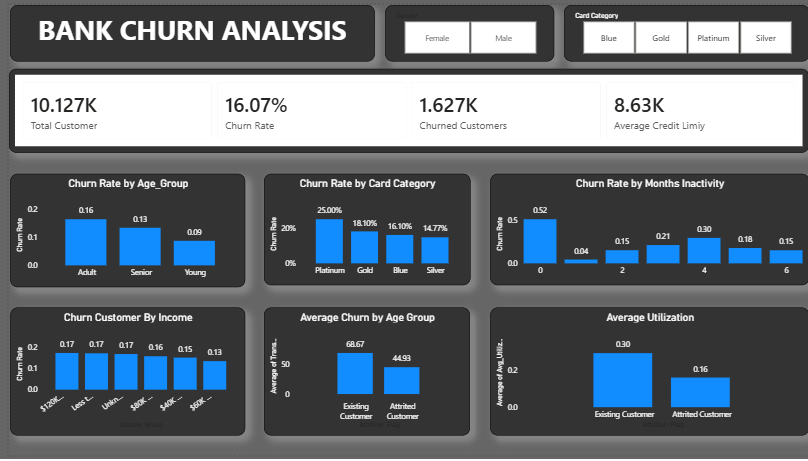

The dashboard page shown, as its layout file describes it:
{"tool":"powerbi","page":{"name":"Page 1","canvas":[1280,720],"ordinal":0},"visuals":[{"type":"textbox","box":[1.4,0,582.9,90],"z":0},{"type":"columnChart","title":"Churn Customer By Income","fields":{"Category":["BankChurners_Cleaned1.Income_Group"],"Y":["BankChurners_Cleaned1.Churn Rate"]},"box":[1.4,484.4,376,204.5],"z":1000},{"type":"clusteredColumnChart","title":"Average  Churn by Age Group","fields":{"Category":["BankChurners_Cleaned1.Attrition_Flag"],"Y":["Avg(BankChurners_Cleaned1.Transaction_Count)"]},"box":[408.9,484.4,329.3,204.5],"z":2000},{"type":"slicer","fields":{"Values":["BankChurners_Cleaned1.Gender"]},"box":[602.9,0,270,90],"z":3000},{"type":"slicer","fields":{"Values":["BankChurners_Cleaned1.Card_Category"]},"box":[887.1,0,392.9,90],"z":4000},{"type":"cardVisual","fields":{"Data":["Count(BankChurners_Cleaned1.CLIENTNUM)","BankChurners_Cleaned1.Churn Rate","BankChurners_Cleaned1.Churned Customers","Avg(BankChurners_Cleaned1.Credit_Limit)"]},"box":[0,102.9,1280,134.3],"z":5000},{"type":"columnChart","fields":{"Y":["BankChurners_Cleaned1.Churn Rate"],"Category":["BankChurners_Cleaned1.Age_Group"]},"box":[1.6,270.3,376.2,181.8],"z":6000},{"type":"columnChart","title":" Churn Rate by Card Category","fields":{"Y":["BankChurners_Cleaned1.Churn Rate"],"Category":["BankChurners_Cleaned1.Card_Category"]},"box":[408.6,270,330,178.6],"z":7000},{"type":"clusteredColumnChart","title":"Churn Rate by Months Inactivity","fields":{"Category":["BankChurners_Cleaned1.Months_Inactive_12_mon"],"Y":["BankChurners_Cleaned1.Churn Rate"]},"box":[770,270,510,178.6],"z":8000},{"type":"clusteredColumnChart","title":"Average Utilization","fields":{"Category":["BankChurners_Cleaned1.Attrition_Flag"],"Y":["Avg(BankChurners_Cleaned1.Avg_Utilization_Ratio)"]},"box":[769.8,484.4,510.5,204.5],"z":9000}]}

Visuals, with their boxes in screenshot pixels (x1, y1, x2, y2), scaled from the page's 1280x720 canvas onto the 808x461 screenshot:
textbox: BBox(1, 0, 369, 58)
"Churn Customer By Income" columnChart: BBox(1, 310, 238, 441)
"Average  Churn by Age Group" clusteredColumnChart: BBox(258, 310, 466, 441)
slicer - BankChurners_Cleaned1.Gender: BBox(381, 0, 551, 58)
slicer - BankChurners_Cleaned1.Card_Category: BBox(560, 0, 807, 58)
cardVisual - Count(BankChurners_Cleaned1.CLIENTNUM) x BankChurners_Cleaned1.Churn Rate: BBox(0, 66, 807, 152)
columnChart - BankChurners_Cleaned1.Churn Rate x BankChurners_Cleaned1.Age_Group: BBox(1, 173, 238, 289)
" Churn Rate by Card Category" columnChart: BBox(258, 173, 466, 287)
"Churn Rate by Months Inactivity" clusteredColumnChart: BBox(486, 173, 807, 287)
"Average Utilization" clusteredColumnChart: BBox(486, 310, 807, 441)
